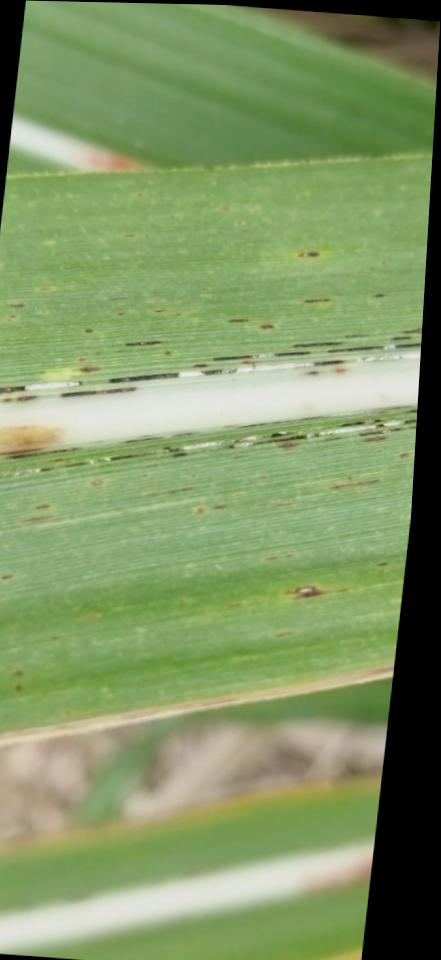RedRot: (0, 424, 67, 451), (89, 151, 145, 171), (334, 367, 346, 374)
Rust: (0, 429, 294, 478), (107, 351, 421, 383), (227, 417, 417, 450), (326, 340, 421, 353), (235, 414, 323, 428), (119, 430, 199, 445), (4, 445, 82, 459), (213, 350, 311, 361), (0, 380, 81, 393), (58, 385, 136, 398), (280, 585, 347, 599), (357, 423, 417, 437), (328, 477, 380, 490), (339, 418, 381, 428), (291, 340, 343, 348), (17, 512, 53, 523), (0, 446, 44, 455), (165, 484, 194, 494), (124, 339, 162, 346), (380, 404, 412, 411), (276, 440, 299, 449), (362, 435, 387, 443), (262, 552, 281, 562), (301, 297, 332, 303), (273, 630, 294, 638), (80, 364, 99, 372), (16, 395, 36, 402), (402, 327, 422, 334), (296, 251, 319, 257), (170, 451, 186, 459), (344, 333, 368, 338), (227, 318, 250, 323), (227, 600, 243, 607), (0, 572, 13, 580), (302, 370, 319, 376), (390, 335, 410, 340), (12, 682, 23, 691), (12, 668, 24, 676), (34, 503, 50, 509), (192, 363, 208, 369), (259, 323, 275, 329), (211, 504, 227, 510), (89, 478, 102, 485), (275, 502, 292, 507), (0, 396, 12, 403), (401, 408, 417, 413), (134, 190, 144, 198), (397, 451, 409, 457), (195, 507, 205, 514), (8, 303, 24, 307), (139, 433, 155, 437), (77, 356, 86, 363), (373, 293, 384, 298), (284, 552, 295, 557), (219, 205, 230, 210), (232, 454, 241, 460), (153, 308, 166, 312), (83, 328, 93, 333), (124, 232, 134, 237), (377, 561, 387, 566), (346, 473, 353, 480), (51, 634, 58, 641), (39, 287, 54, 290), (257, 501, 266, 506), (170, 312, 181, 316), (222, 424, 233, 428), (164, 349, 171, 355), (257, 475, 267, 479), (234, 221, 242, 226), (8, 314, 16, 318), (72, 495, 78, 500), (117, 311, 124, 315), (249, 205, 256, 209), (140, 473, 148, 476), (189, 473, 195, 477), (67, 490, 73, 494), (8, 504, 13, 508), (41, 310, 46, 313), (6, 319, 12, 321)
Yellow: (0, 666, 392, 746)
